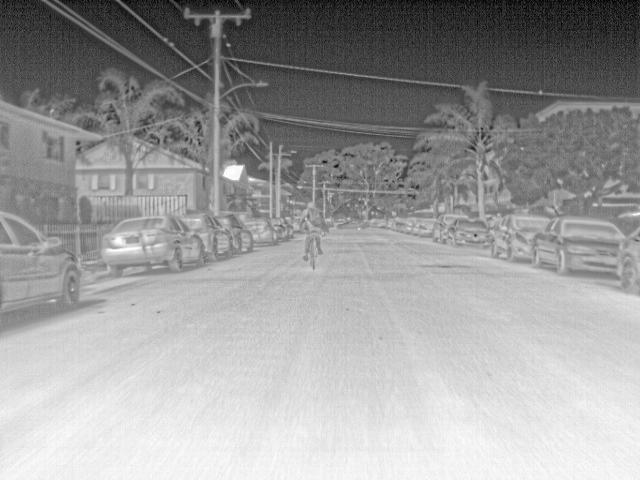car: (1, 209, 83, 320), (100, 214, 206, 278), (533, 216, 627, 276), (492, 214, 550, 262), (180, 214, 235, 262), (615, 226, 640, 293), (213, 215, 254, 255), (447, 218, 494, 250), (432, 212, 470, 244), (242, 216, 280, 246), (277, 214, 295, 240), (401, 214, 424, 234), (336, 218, 371, 230), (417, 218, 434, 236), (392, 216, 411, 232), (290, 215, 304, 234), (323, 214, 337, 228), (369, 216, 381, 228), (335, 214, 347, 225), (378, 218, 391, 228)
person: (305, 200, 323, 241)
